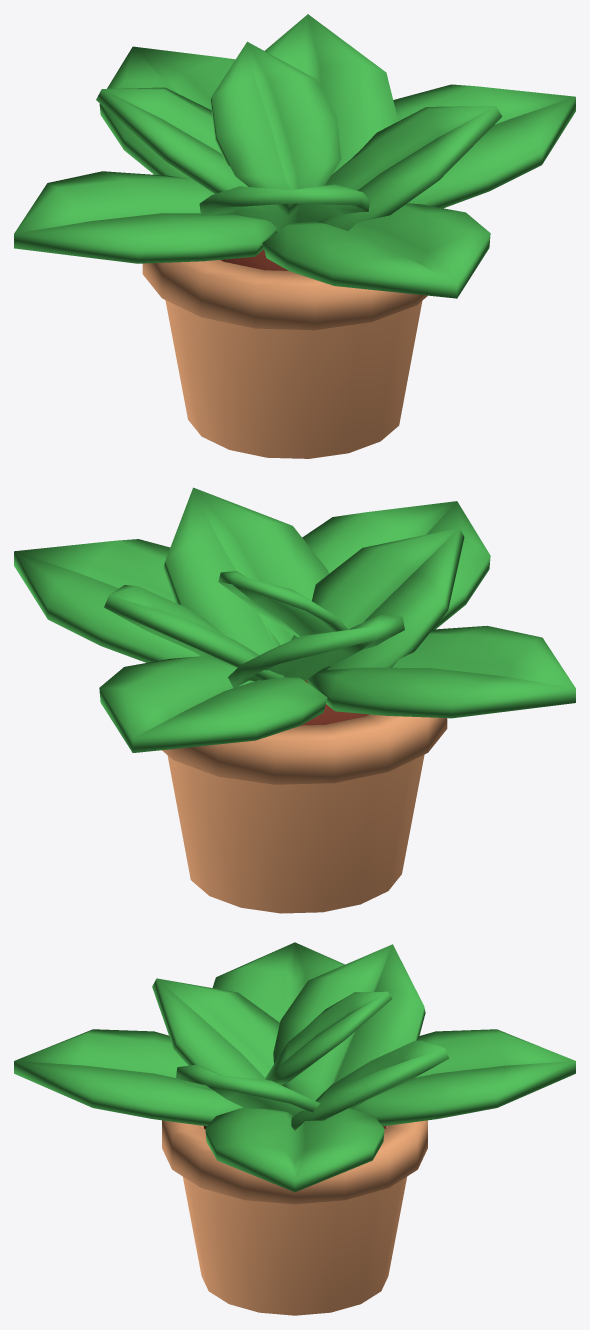
The model's file is kwiatek.glb.
The picture shows the model from 3 angles, top to bottom: view 1: azimuth 30°, elevation 25°; view 2: azimuth 150°, elevation 25°; view 3: azimuth 270°, elevation 25°; orthographic projection. The views are drawn at different scales.
Visible parts, largest first — view 1: Cylinder.008; view 2: Cylinder.008; view 3: Cylinder.008.
Part boxes in pixels (<box>): Cylinder.008: <box>14,14,575,458</box>; Cylinder.008: <box>14,487,575,913</box>; Cylinder.008: <box>14,942,575,1315</box>.
Bounding box in the file's own units: 0.0277 × 0.0156 × 0.0277.
